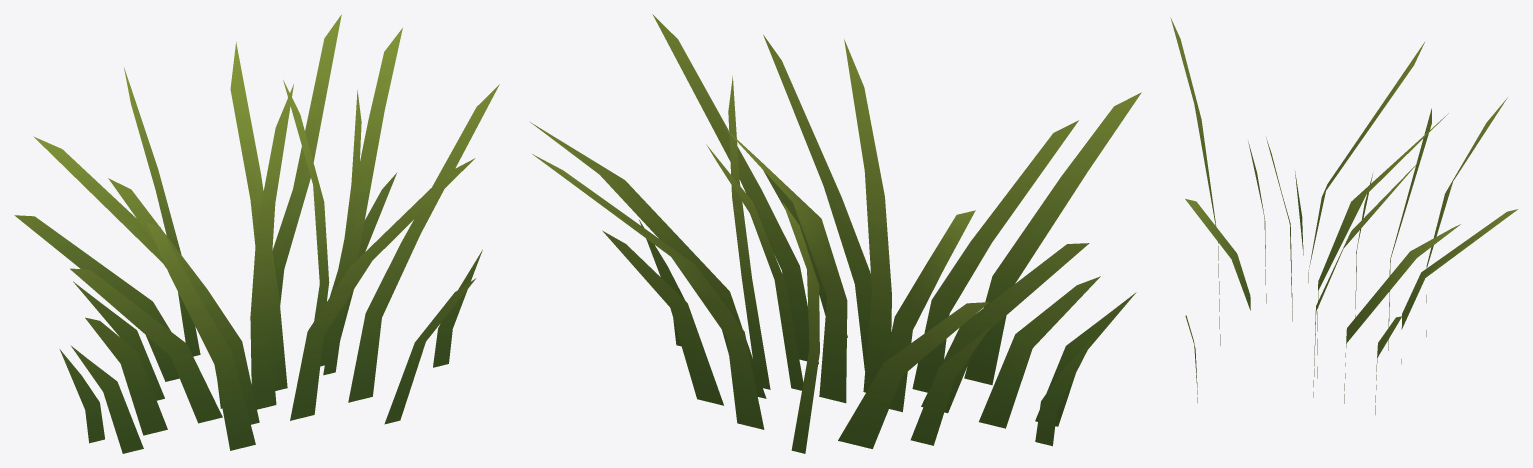
File: Grass_Large.glb
3 views of the same model, side by side, from view 1: azimuth 30°, elevation 25°; view 2: azimuth 150°, elevation 25°; view 3: azimuth 270°, elevation 25° (orthographic). The views are drawn at different scales.
Visible parts, largest first — view 1: Grass_Large; view 2: Grass_Large; view 3: Grass_Large.
Boxes of the visible parts, x1,y1,x2,y2 form: Grass_Large: (14, 14, 499, 453); Grass_Large: (529, 14, 1141, 453); Grass_Large: (1170, 17, 1518, 414).
Size of the model in its own units: 0.7085 by 0.4851 by 0.498.
Materials: 1 (1 with a texture image).
